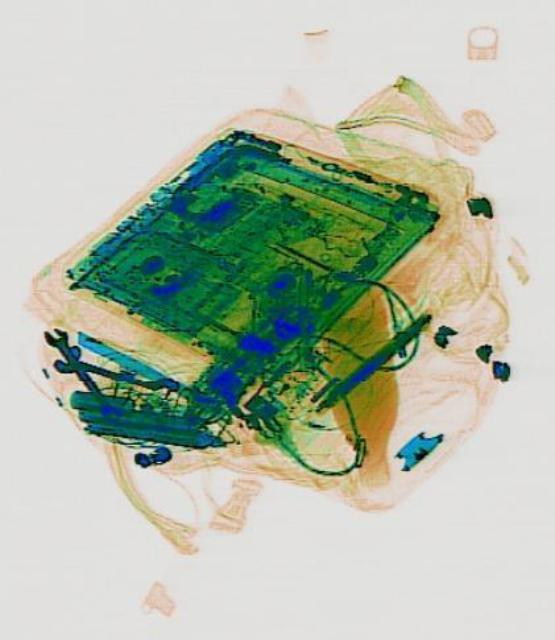Wrench: (38, 318, 119, 424), (48, 342, 177, 406)
